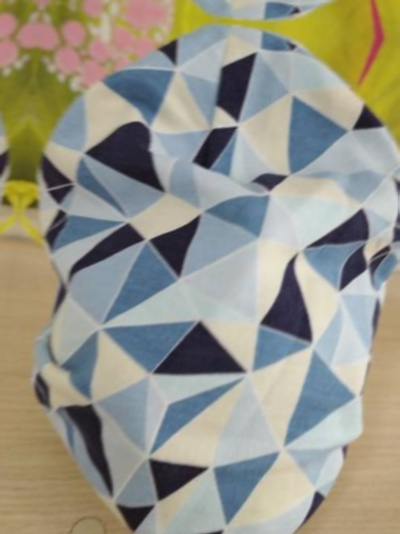Hat: (8, 12, 400, 534), (68, 0, 400, 35), (0, 0, 17, 528)
